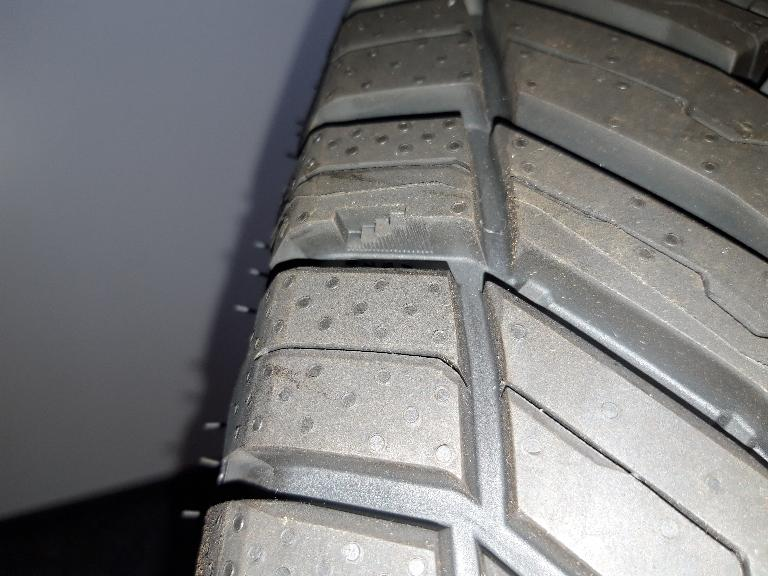temoin:100: (331, 202, 432, 257)
